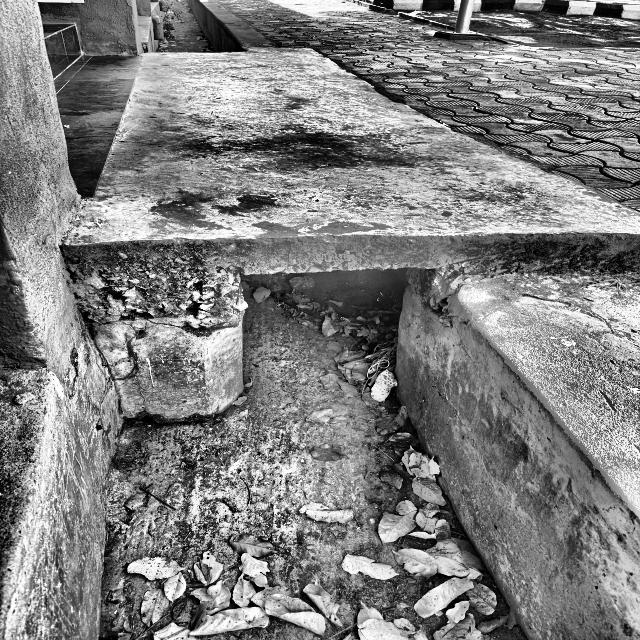drainage: (57, 244, 640, 640)
